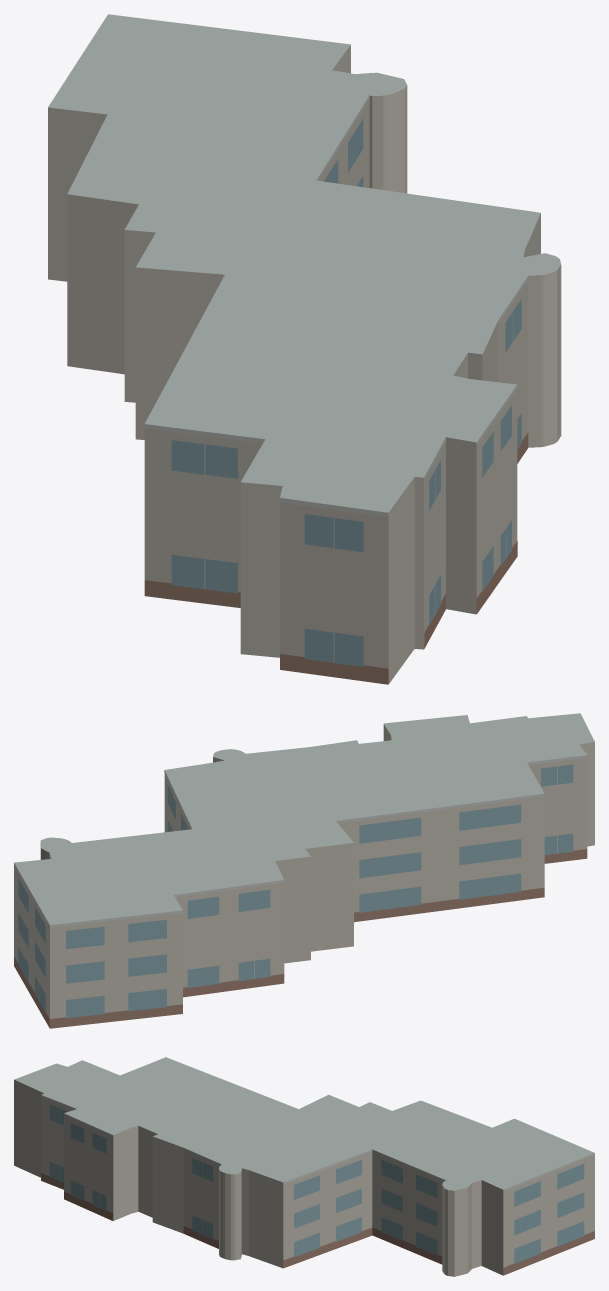
File: survey-upis-32833327.glb
3 renders of one model, top to bottom at view 1: azimuth 30°, elevation 25°; view 2: azimuth 150°, elevation 25°; view 3: azimuth 270°, elevation 25°, orthographic. The views are drawn at different scales.
Visible parts, largest first — view 1: survey-upis-32833327.tmp; view 2: survey-upis-32833327.tmp; view 3: survey-upis-32833327.tmp.
Part boxes in pixels (x1=…): survey-upis-32833327.tmp: x1=48, y1=14, x2=561, y2=684; survey-upis-32833327.tmp: x1=14, y1=713, x2=594, y2=1028; survey-upis-32833327.tmp: x1=14, y1=1057, x2=594, y2=1276.
Bounding box in the file's own units: 30.53 × 9.15 × 56.03.
